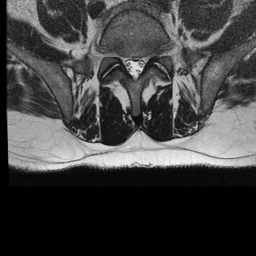CCS_normal: (130, 50, 137, 86)
LFS_stenosis: (147, 45, 155, 65)
LLS_normal: (138, 50, 146, 77)
RFS_severe_stenosis: (115, 43, 123, 67)
RLS_normal: (122, 49, 130, 78)
